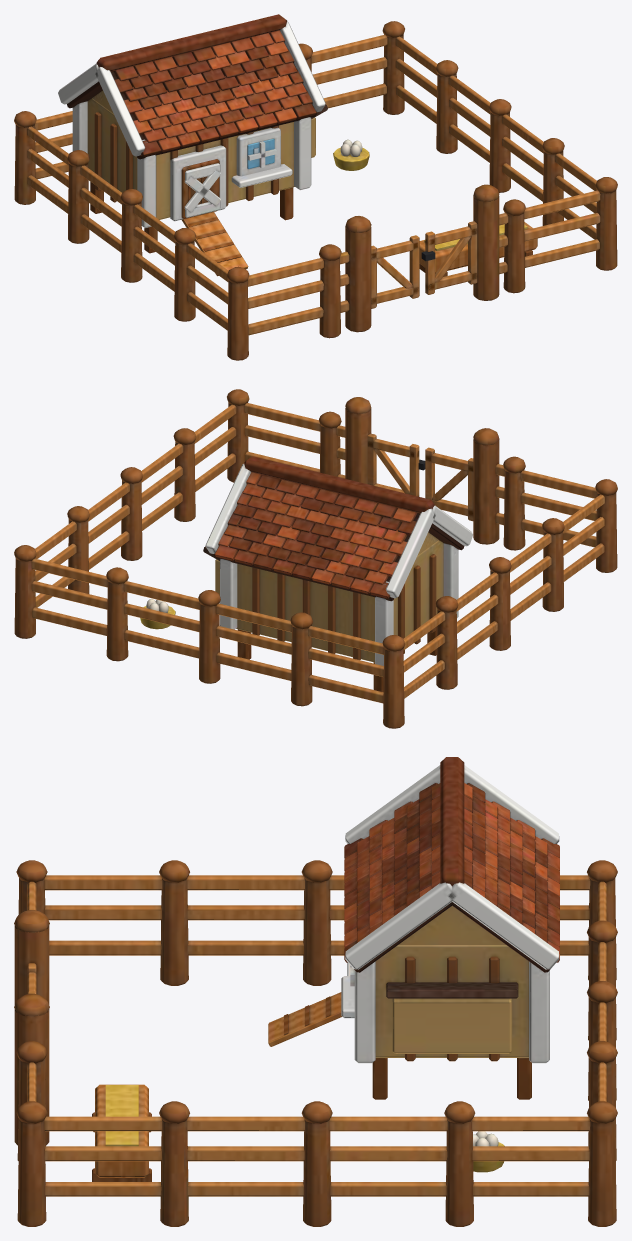
Rendered from turkey_run.glb.
3 renders of one model, top to bottom at view 1: azimuth 30°, elevation 25°; view 2: azimuth 150°, elevation 25°; view 3: azimuth 270°, elevation 25°, orthographic. The views are drawn at different scales.
Parts seen in each view (by area): view 1: turkey_run, gate1, gate0; view 2: turkey_run, gate1, gate0; view 3: turkey_run.
Boxes of the visible parts, box(x1,y1,x2,y2) form: turkey_run: box(14, 14, 617, 360); gate1: box(421, 221, 477, 294); gate0: box(371, 235, 419, 308); turkey_run: box(14, 389, 617, 728); gate1: box(367, 433, 425, 496); gate0: box(425, 447, 473, 521); turkey_run: box(14, 757, 617, 1226).
Bounding box in the file's own units: 2 × 0.8813 × 2.01.
Materials: 1 (1 with a texture image).
